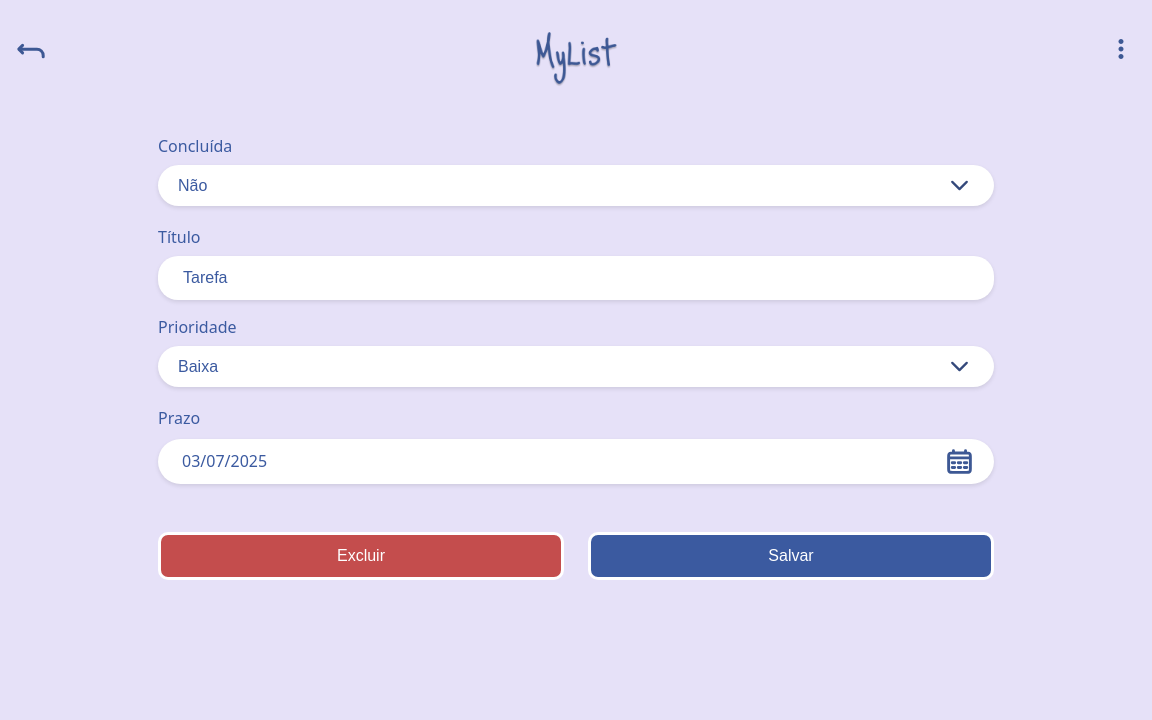
Scenario: EditTask › opens and closes delete modal
Check: the field labelled "Título" is shown, box 158,256 -> 994,300
Click the button "Excluir": (361, 556) 158,532 -> 564,580
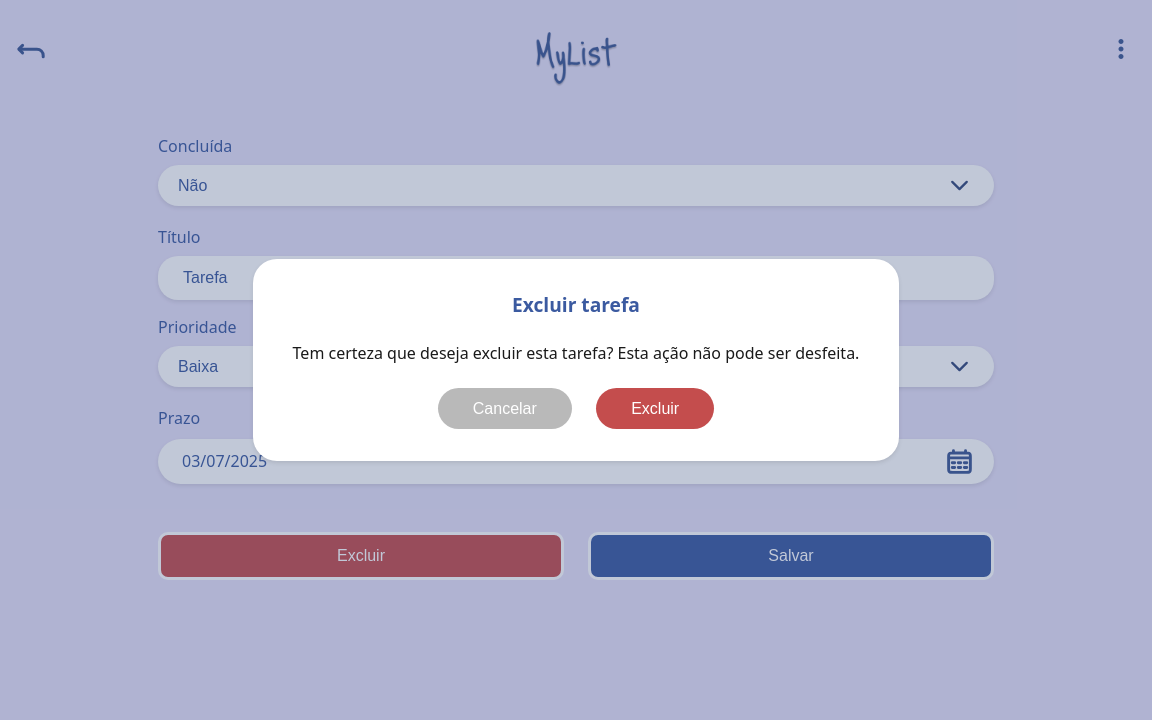
Check: the text "Tem certeza que deseja excluir" is shown, box 293,342 -> 859,364
Click the button "Cancelar": (505, 408) 438,388 -> 572,429
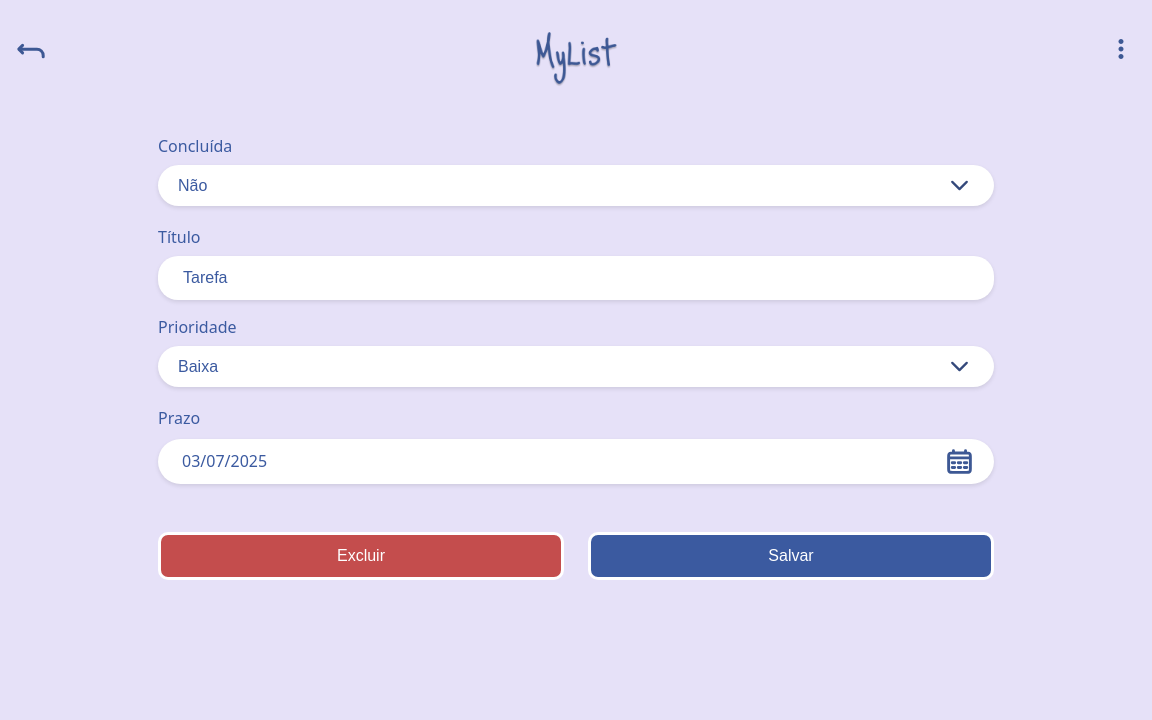
Check: the text "Tem certeza que deseja excluir" is gone
